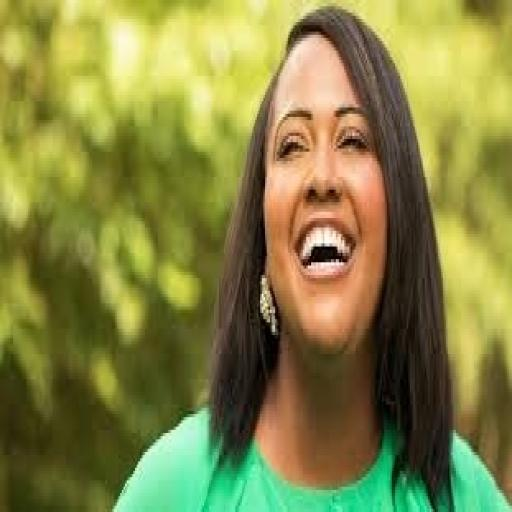laughing: (105, 3, 507, 506)
